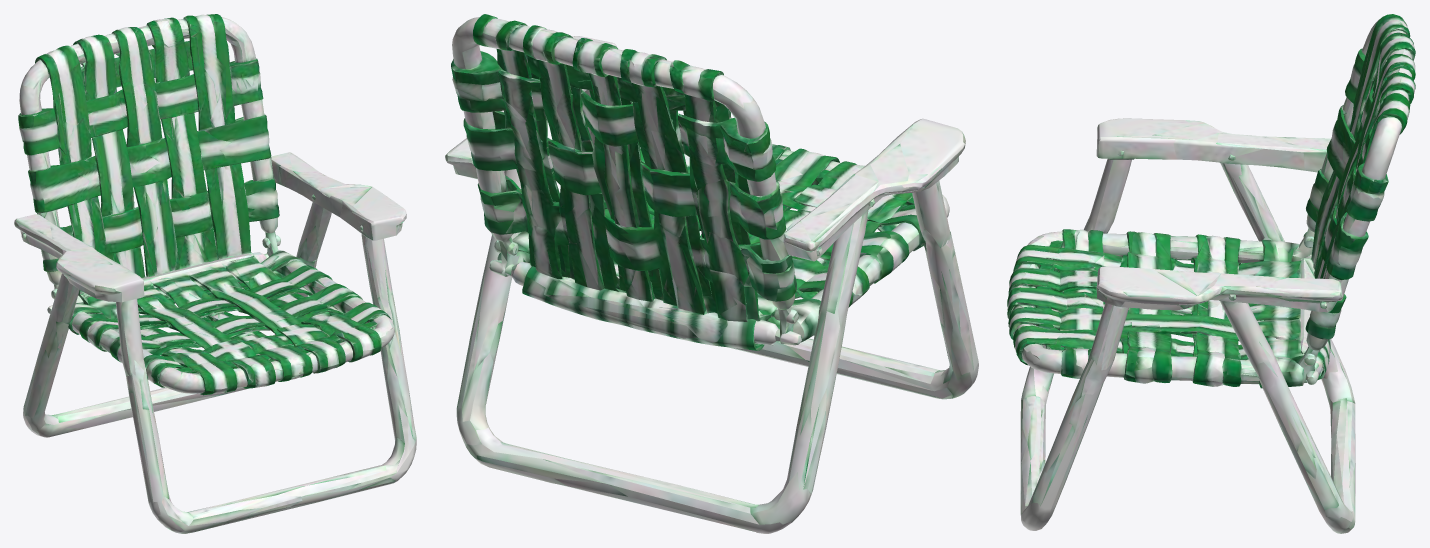
The model's file is lawnchair.glb.
The picture shows the model from 3 angles, left to right: view 1: azimuth 30°, elevation 25°; view 2: azimuth 150°, elevation 25°; view 3: azimuth 270°, elevation 25°; orthographic projection. The views are drawn at different scales.
Bounding box in the file's own units: 1.74 × 1.9 × 1.69.
Materials: 1 (1 with a texture image).
